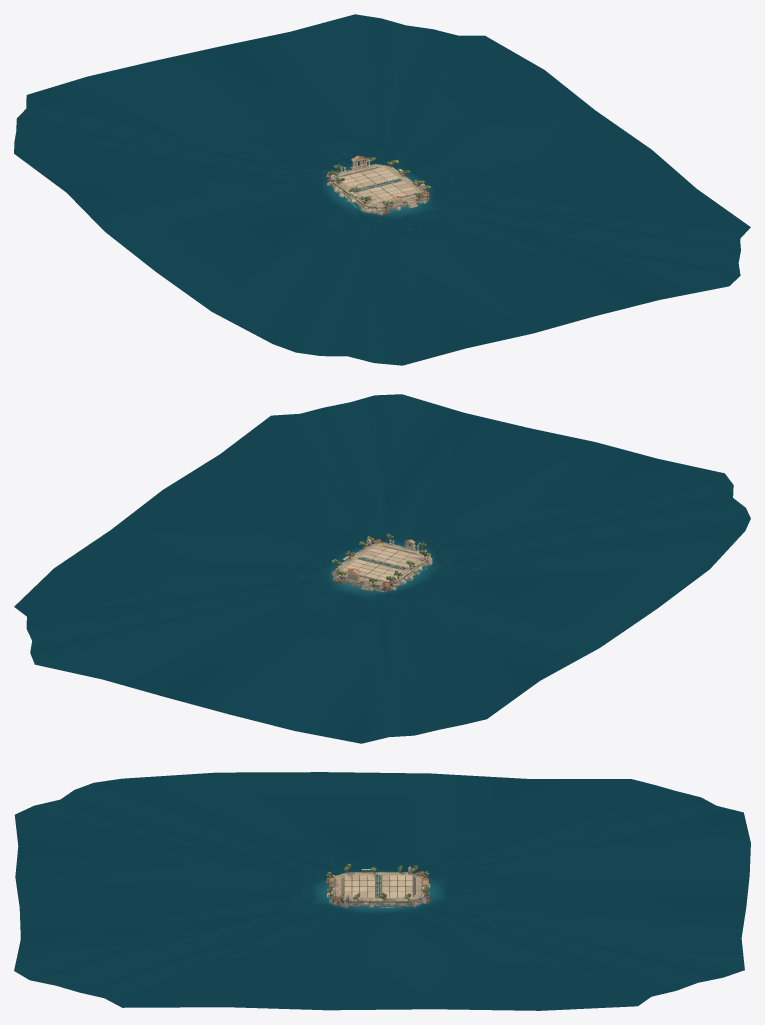
Rendered from arena_aegean.glb.
The picture shows the model from 3 angles, top to bottom: view 1: azimuth 30°, elevation 25°; view 2: azimuth 150°, elevation 25°; view 3: azimuth 270°, elevation 25°; orthographic projection.
Visible parts, largest first — view 1: Portrait arena with baked illumination; view 2: Portrait arena with baked illumination; view 3: Portrait arena with baked illumination.
Part boxes in pixels (<box>): Portrait arena with baked illumination: <box>14,14,750,365</box>; Portrait arena with baked illumination: <box>14,394,750,743</box>; Portrait arena with baked illumination: <box>14,772,750,1010</box>.
Size of the model in its own units: 124 by 4.28 by 162.
